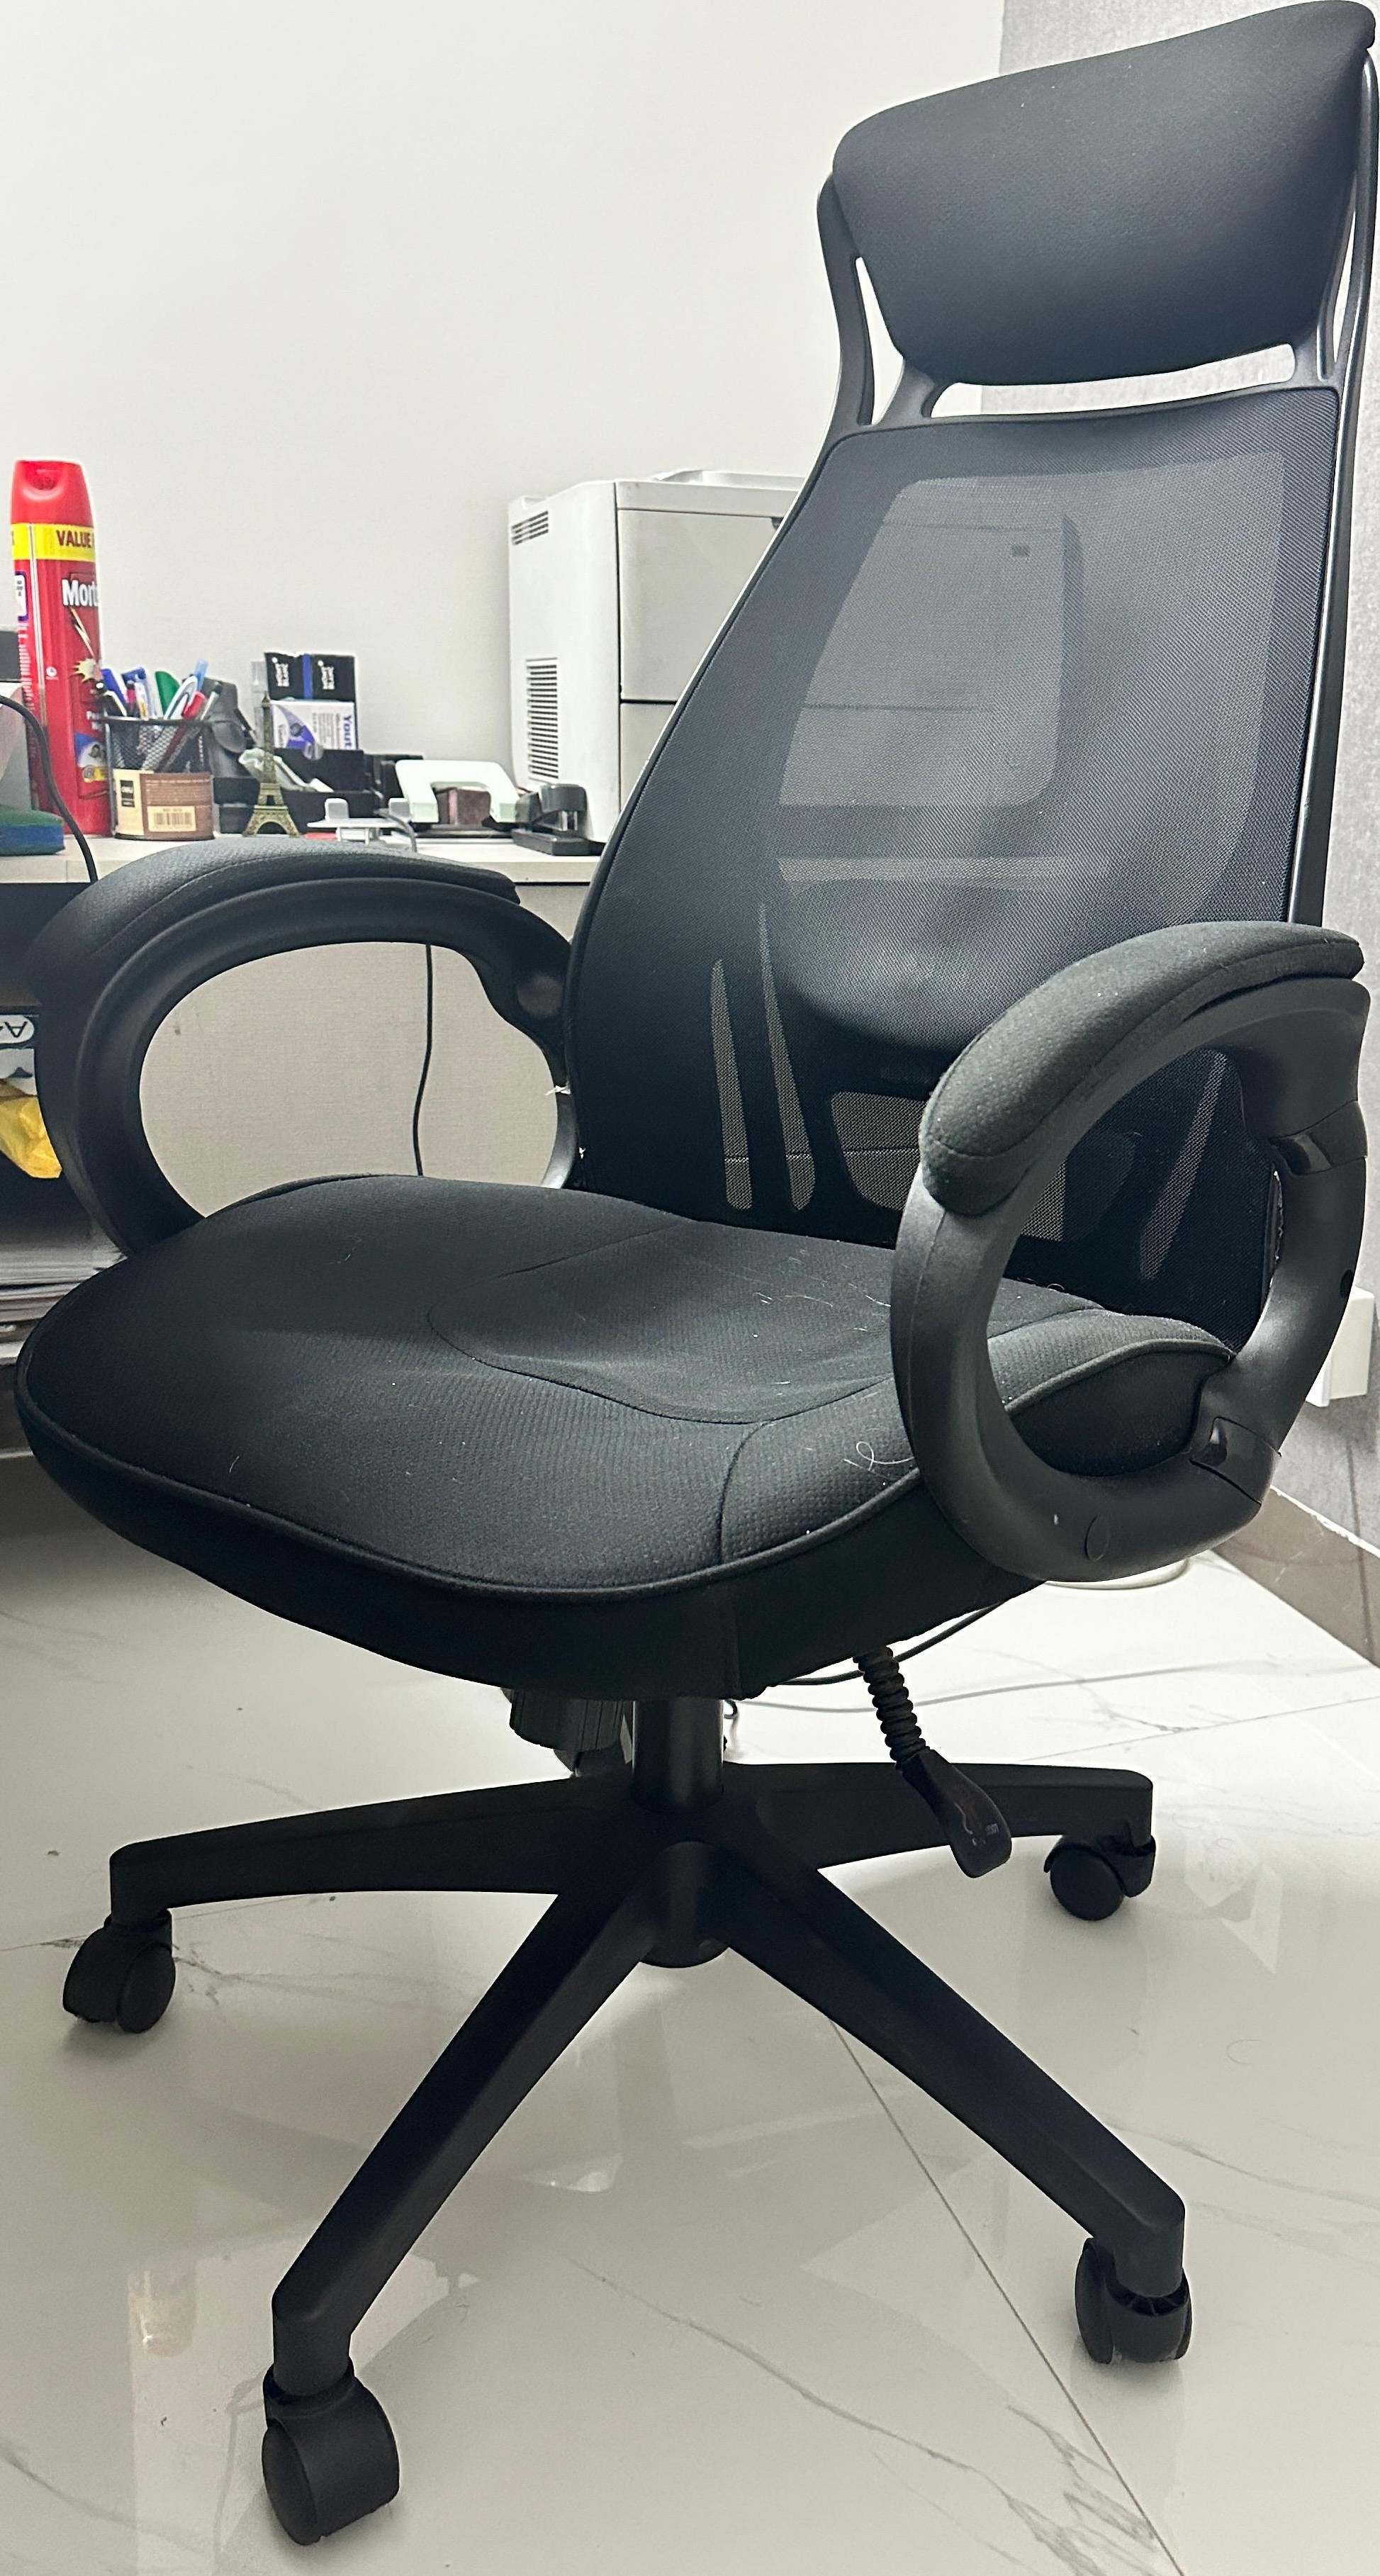chair_new: (0, 5, 1378, 2571)
